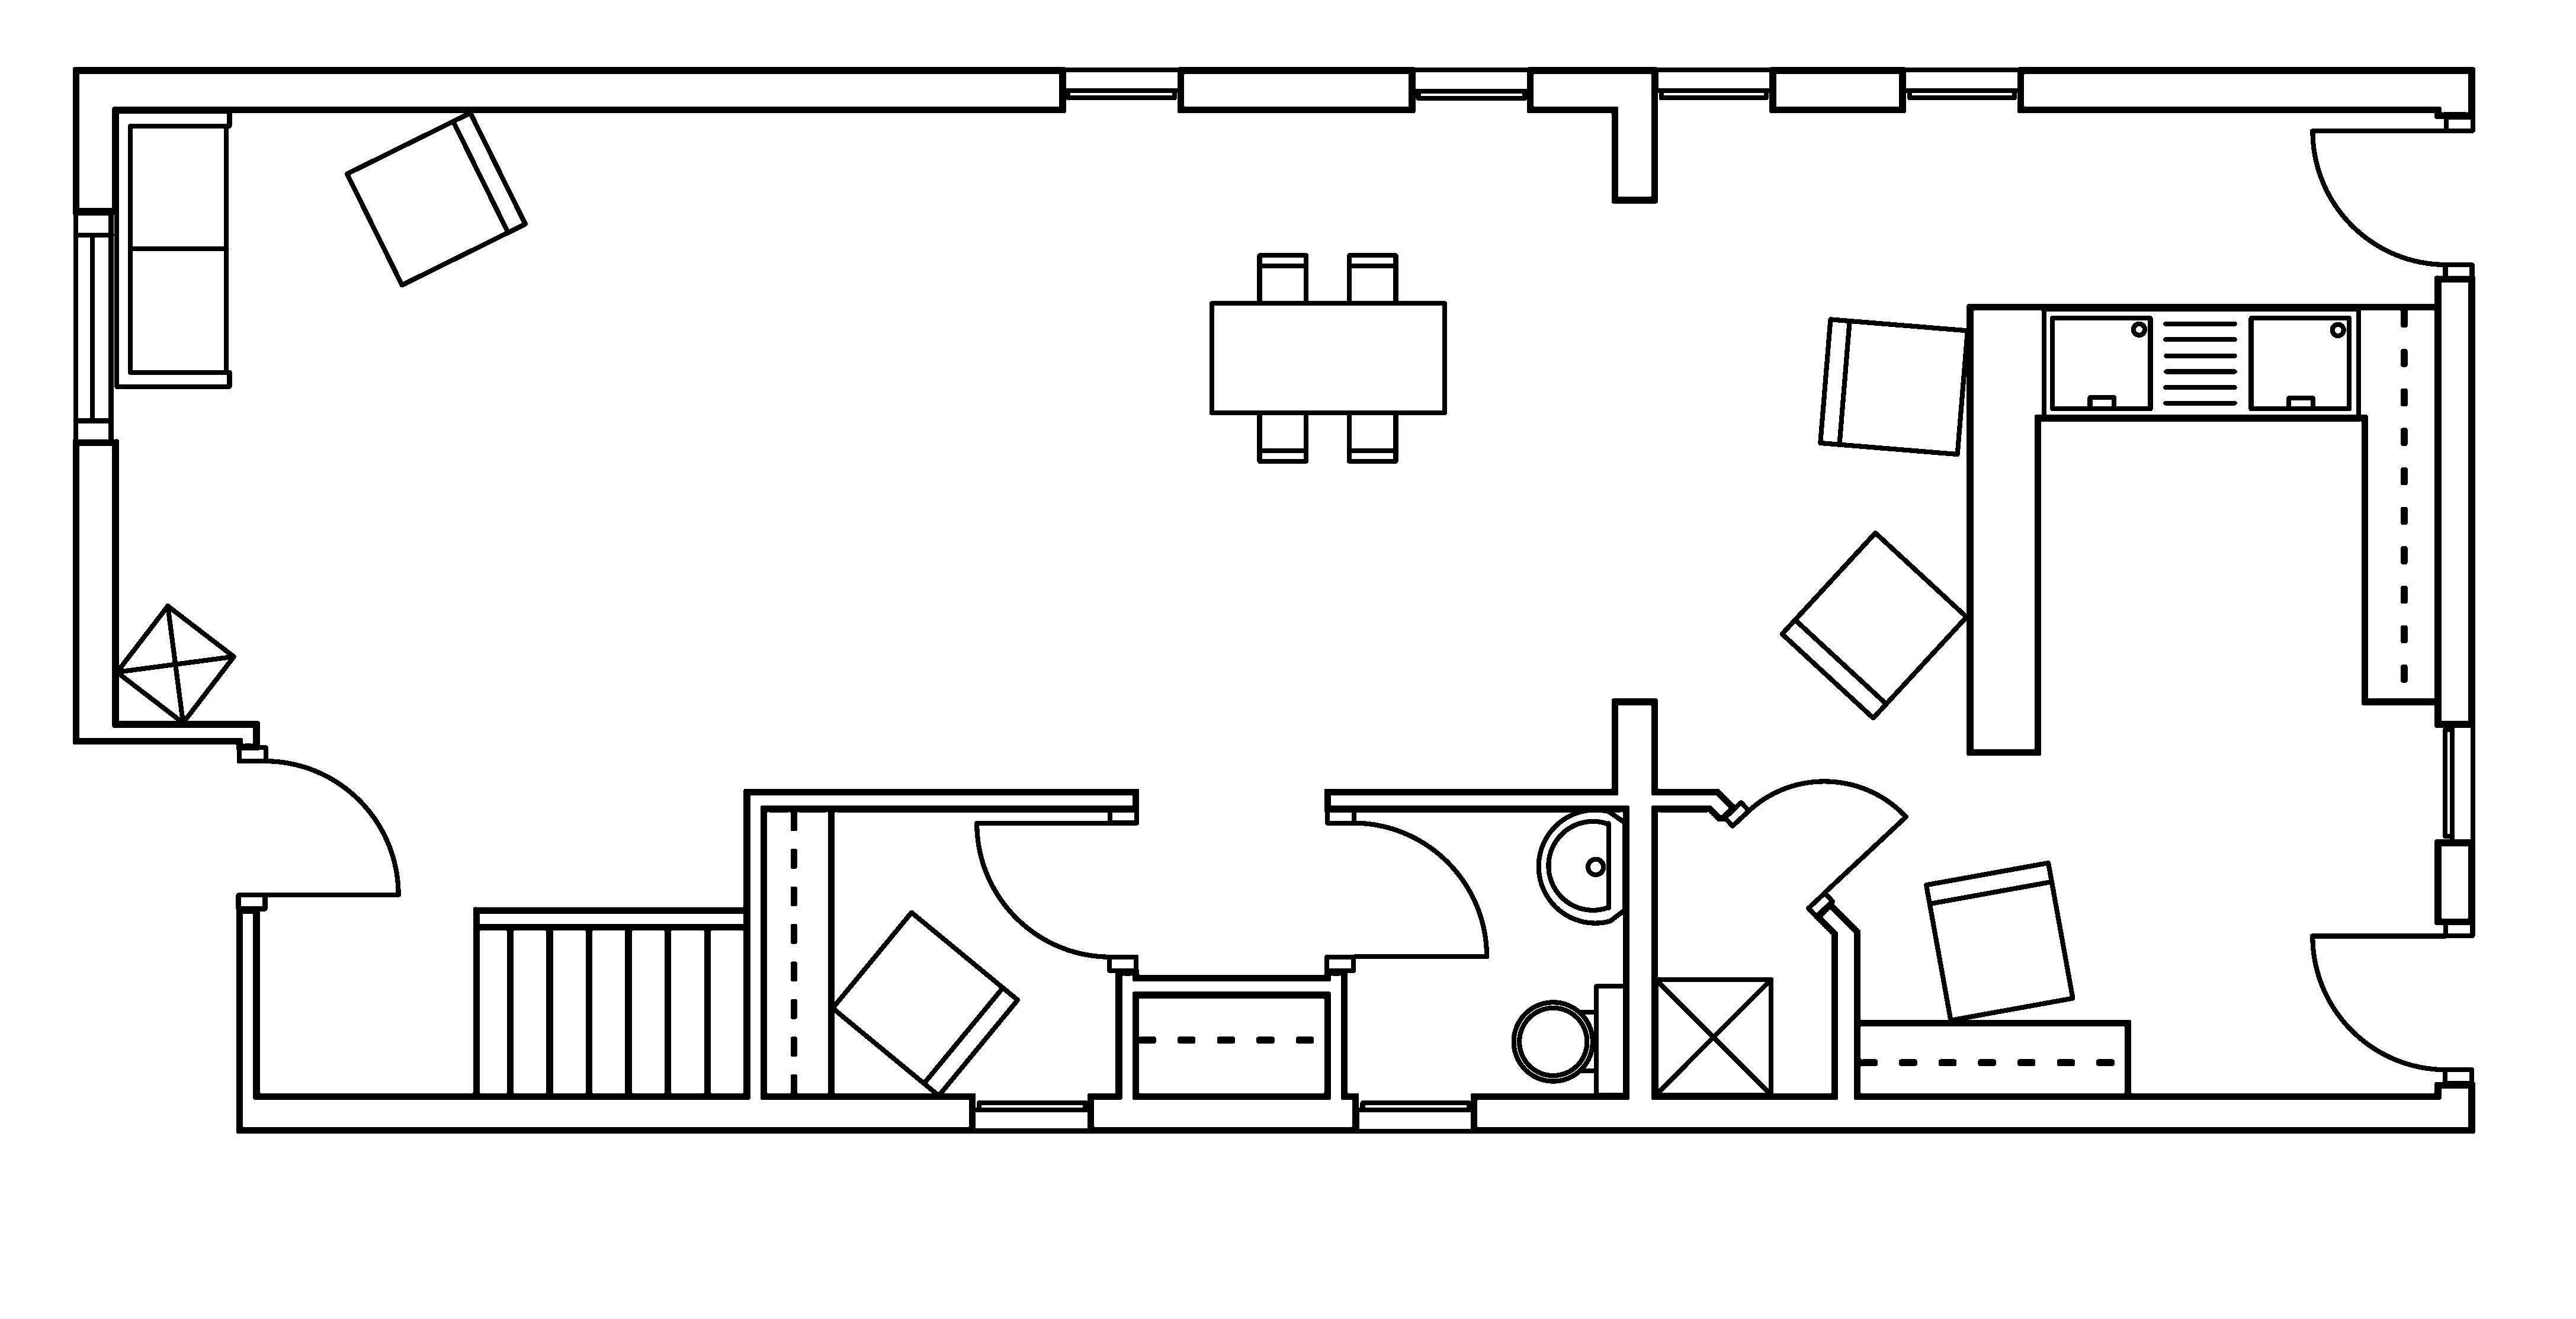coffee_table: (113, 602, 237, 725), (1651, 976, 1774, 1097)
dining_table: (1207, 252, 1448, 464)
large_sink: (1512, 983, 1628, 1097)
large_sofa: (113, 108, 232, 389)
small_sink: (1535, 808, 1628, 925)
small_sofa: (1777, 530, 1969, 720), (829, 908, 1021, 1099), (343, 109, 528, 288), (1922, 860, 2075, 1023), (1816, 316, 1971, 456)
twin_sink: (2040, 305, 2361, 421)
